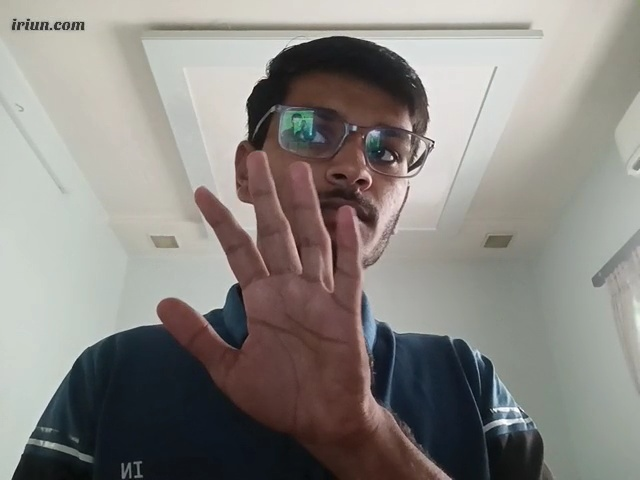Hello: (152, 146, 391, 445)
